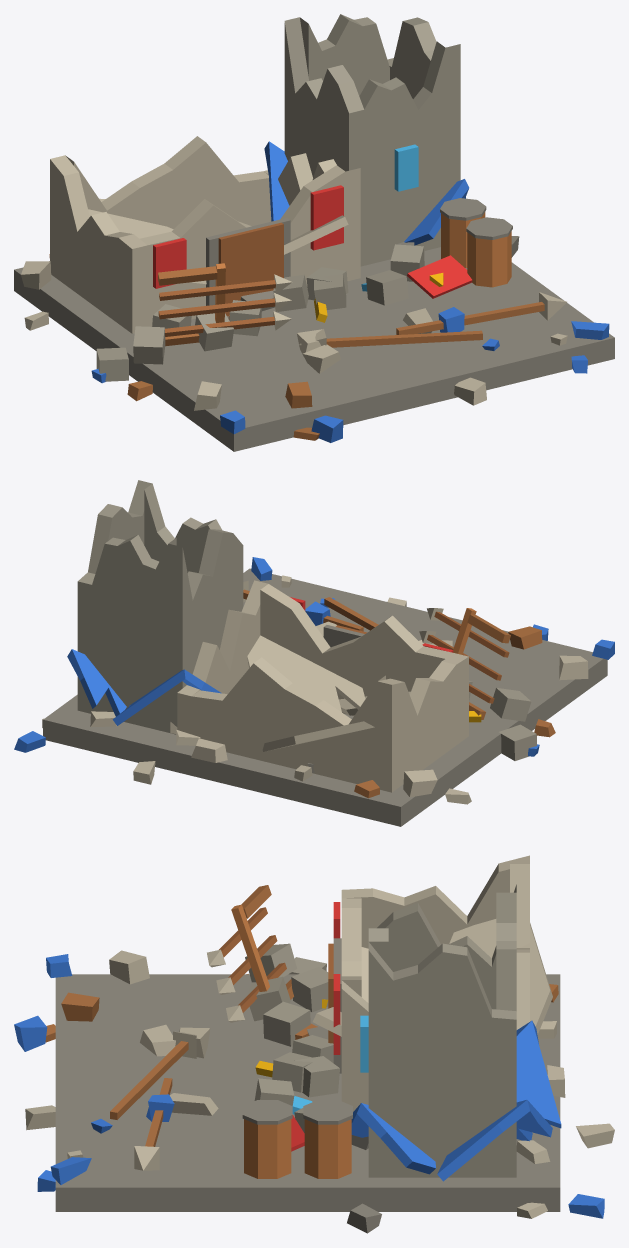
Rendered from barracks_t2_v2_dmg2.glb.
3 views of the same model, one above another, from view 1: azimuth 30°, elevation 25°; view 2: azimuth 150°, elevation 25°; view 3: azimuth 270°, elevation 25° (orthographic). The views are drawn at different scales.
Parts seen in each view (by area): view 1: barracks_t2_v2_dmg2; view 2: barracks_t2_v2_dmg2; view 3: barracks_t2_v2_dmg2.
Boxes of the visible parts, x1,y1,x2,y2 form: barracks_t2_v2_dmg2: (14,14,614,451); barracks_t2_v2_dmg2: (14,480,614,826); barracks_t2_v2_dmg2: (14,855,614,1233).
Bounding box in the file's own units: 0.8938 × 0.4189 × 0.8933.
1 material, 1 textured.
